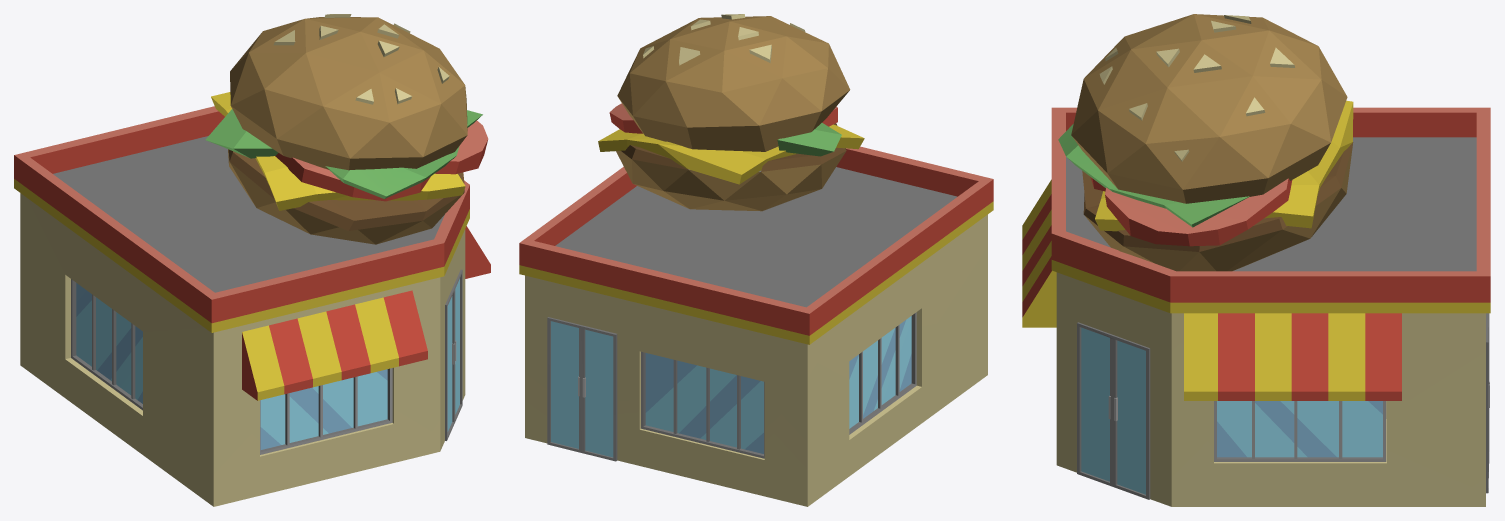
Rendered from building_2_1_1_4.glb.
3 views of the same model, side by side, from view 1: azimuth 30°, elevation 25°; view 2: azimuth 150°, elevation 25°; view 3: azimuth 270°, elevation 25° (orthographic). The views are drawn at different scales.
Visible parts, largest first — view 1: building_2_1_1_4; view 2: building_2_1_1_4; view 3: building_2_1_1_4.
Boxes of the visible parts, box(x1,y1,x2,y2) form: building_2_1_1_4: box(14, 14, 490, 506); building_2_1_1_4: box(519, 14, 993, 506); building_2_1_1_4: box(1022, 14, 1490, 506).
Bounding box in the file's own units: 11.29 × 12.04 × 12.19.
1 material, 1 textured.
